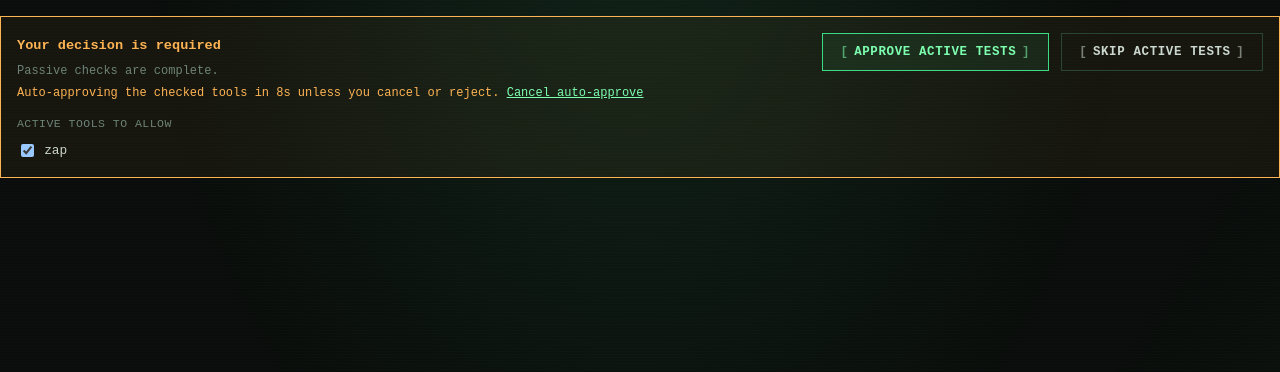
it: ApprovalGate countdown › cancel stops the countdown
The image size is (1280, 372).
Click the button "Cancel auto-approve": click(575, 94) [507,84,644,103]
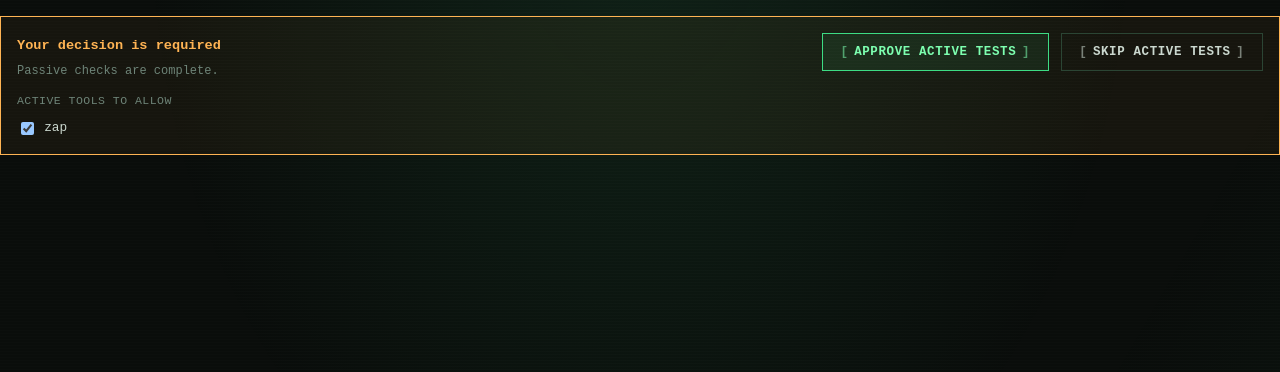
Now the text "Auto-approving the checked tools" is gone
